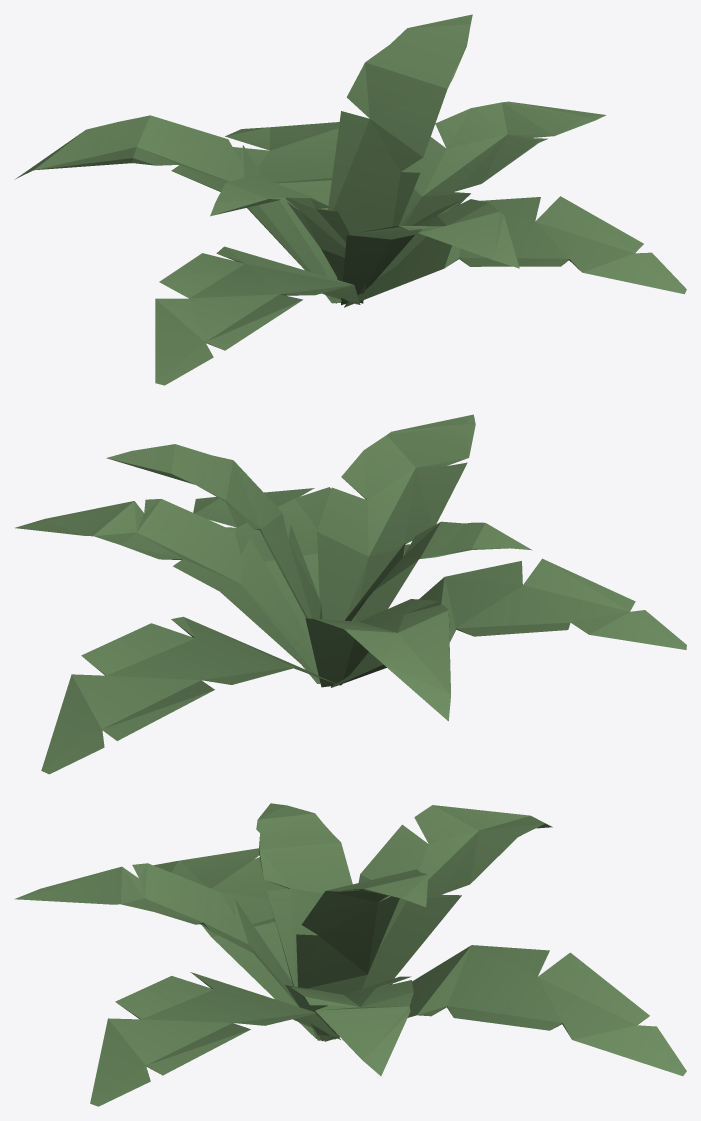
Rendered from Plant_02.fbx.
The picture shows the model from 3 angles, top to bottom: view 1: azimuth 30°, elevation 25°; view 2: azimuth 150°, elevation 25°; view 3: azimuth 270°, elevation 25°; orthographic projection. The views are drawn at different scales.
Visible parts, largest first — view 1: Plant_02_LOD0; view 2: Plant_02_LOD0; view 3: Plant_02_LOD0.
Boxes of the visible parts, x1,y1,x2,y2 form: Plant_02_LOD0: (15, 14, 686, 385); Plant_02_LOD0: (15, 414, 686, 774); Plant_02_LOD0: (14, 803, 686, 1106).
Size of what is drawn, in the model's own units: 124 by 45.74 by 129.
